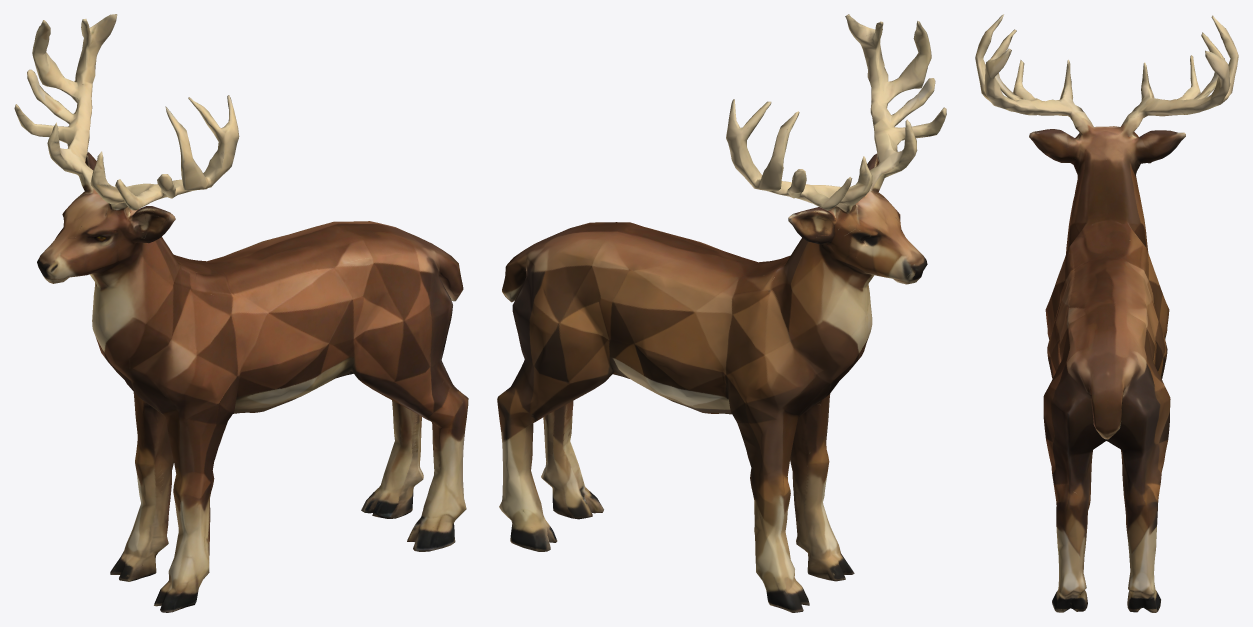
The model's file is Meshy_AI_Poly_Stag_0128171436_texture.glb.
3 renders of one model, left to right at view 1: azimuth 30°, elevation 25°; view 2: azimuth 150°, elevation 25°; view 3: azimuth 270°, elevation 25°, orthographic. The views are drawn at different scales.
Bounding box in the file's own units: 1.62 × 2 × 1.03.
Materials: 1 (1 with a texture image).
